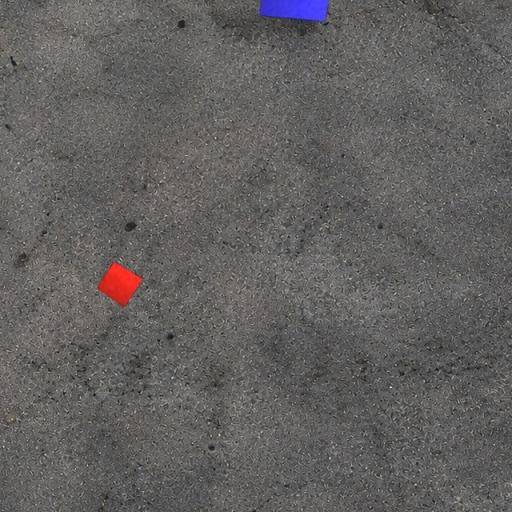RED_SQUARE: (96, 261, 144, 308)
